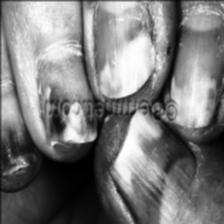Toxin: (0, 128, 38, 174), (46, 108, 85, 148)
